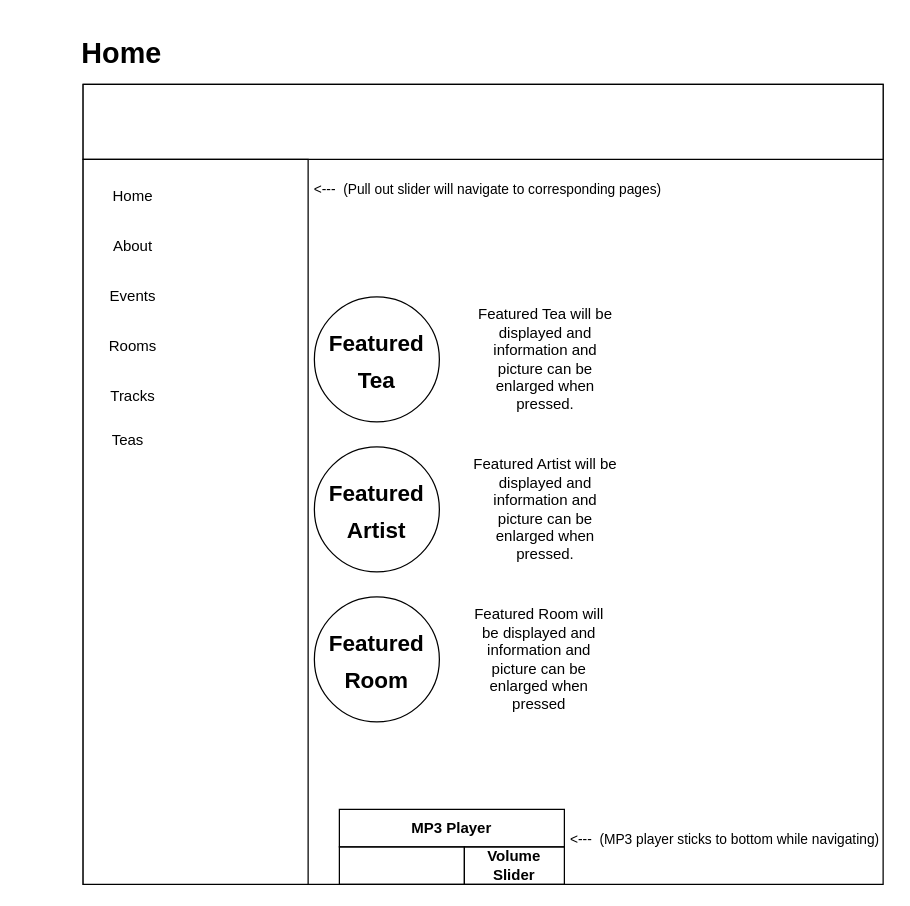
Image size: 910x906. Some labels were removed from this diagram. Here are the shapes that lost their labels. From the top down, the centre of each, then its label:
At [482,121]: "Lofi Chai".
At [401,865]: "Skip/Pause/Play".
